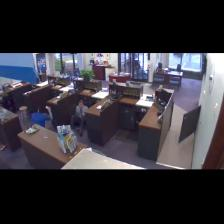person: (71, 100, 88, 136), (32, 107, 52, 127)
